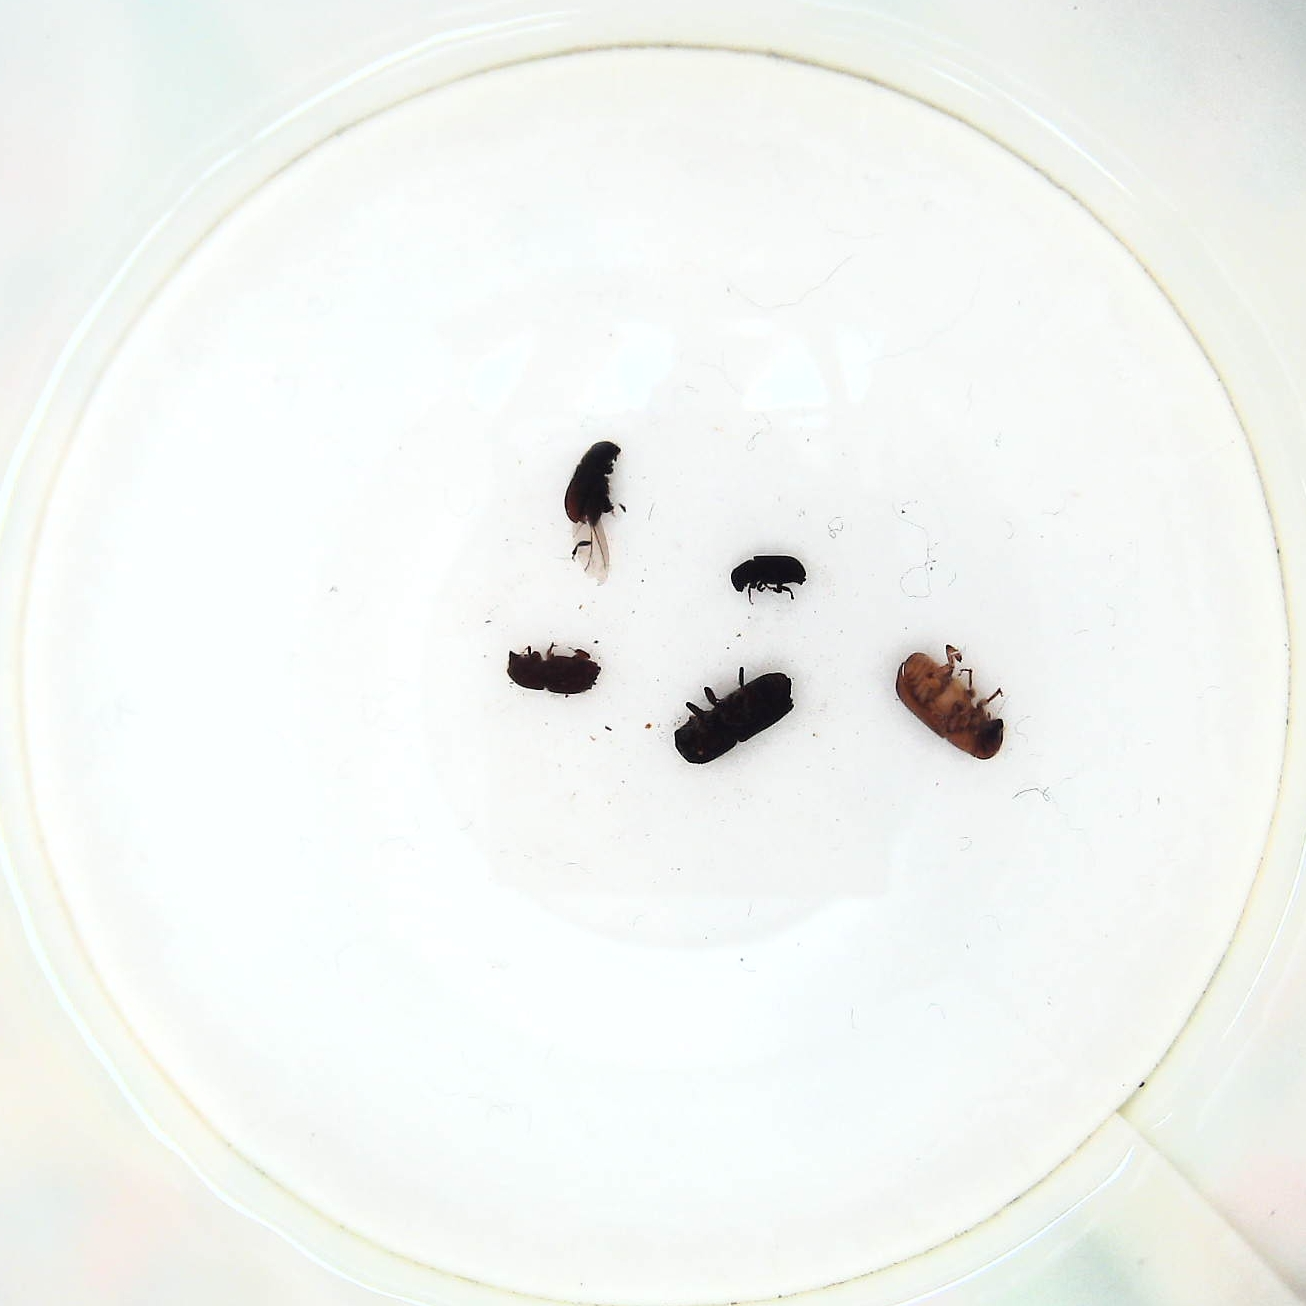Boerner: (670, 663, 804, 767)
Leconte: (887, 645, 1009, 764)
armandi: (563, 435, 622, 579)
coleoptera: (724, 553, 812, 604)
linnaeus: (500, 640, 604, 696)
